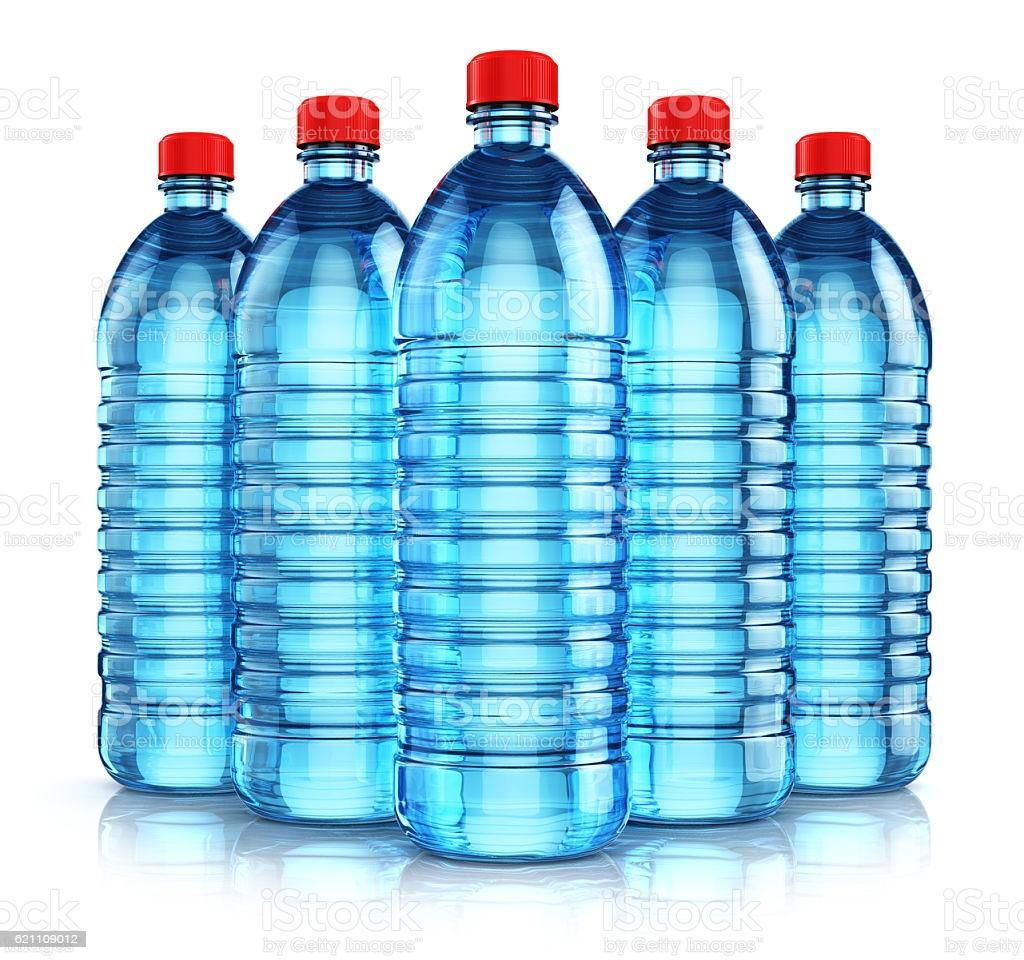bottle: (385, 44, 667, 880), (608, 56, 802, 884), (230, 54, 413, 850), (66, 98, 260, 822), (768, 96, 942, 784)
